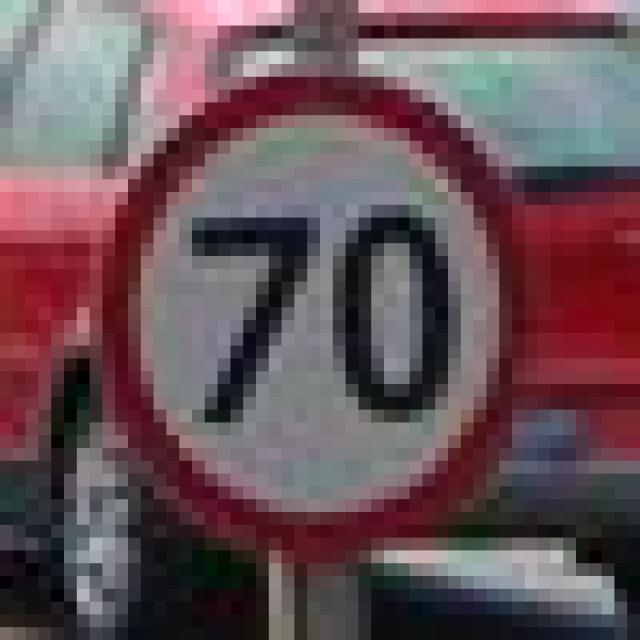SPEED_LIMIT_70: (77, 64, 499, 550)
